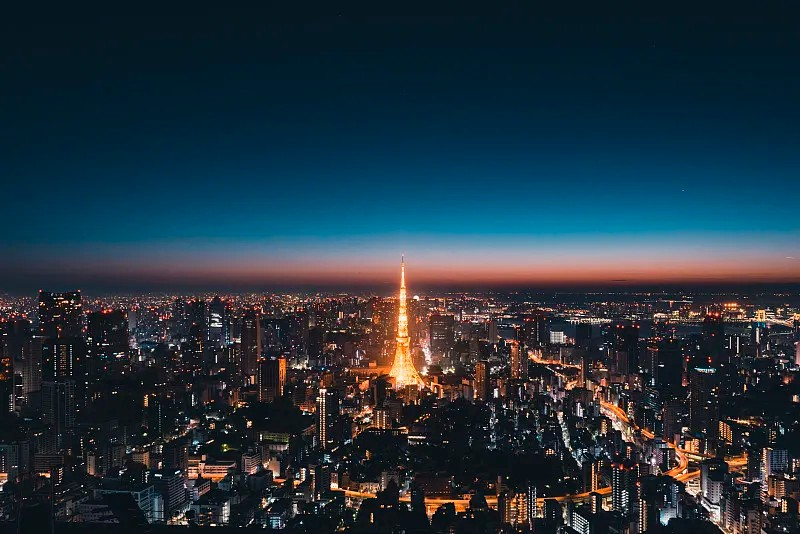Tokyo: (388, 253, 425, 389)
